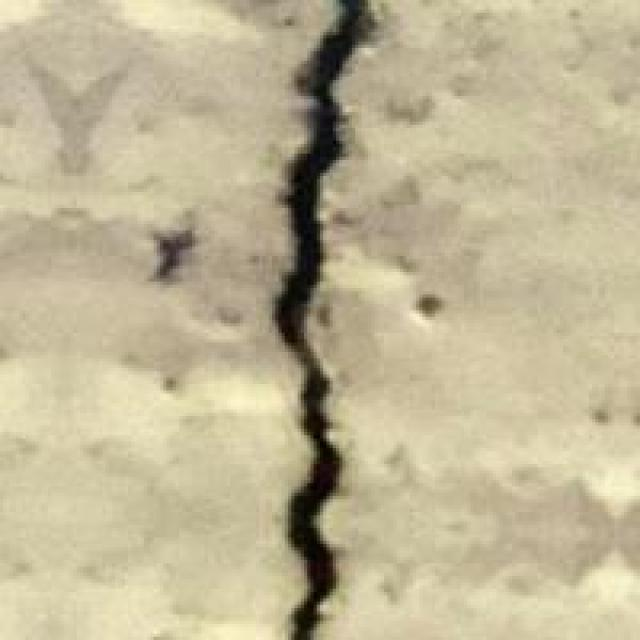crack: (204, 0, 410, 637)
